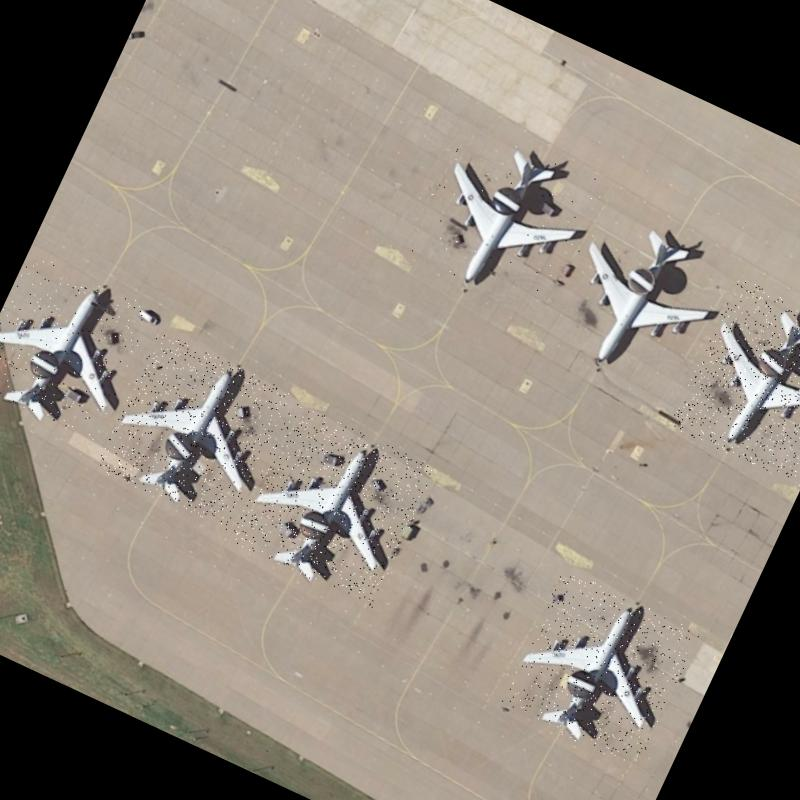A7: (228, 401, 436, 608), (402, 117, 610, 323), (539, 198, 743, 406), (499, 568, 700, 769), (94, 330, 292, 530), (0, 250, 154, 441), (668, 276, 800, 487)
